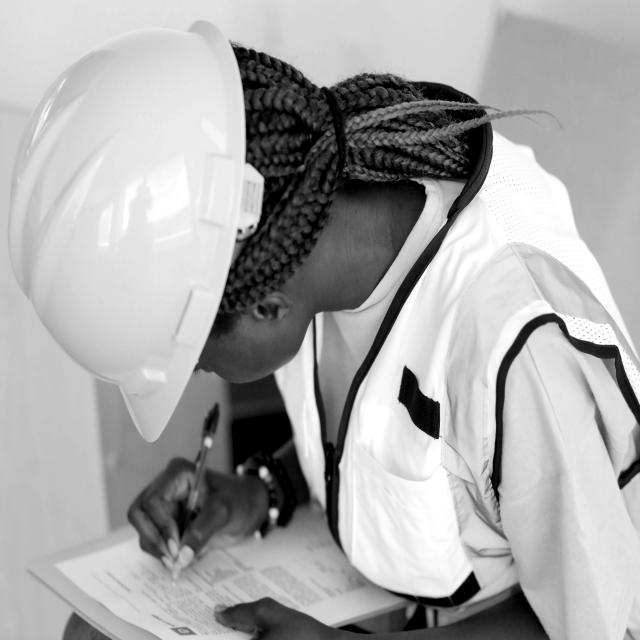Vest: (319, 116, 640, 599)
